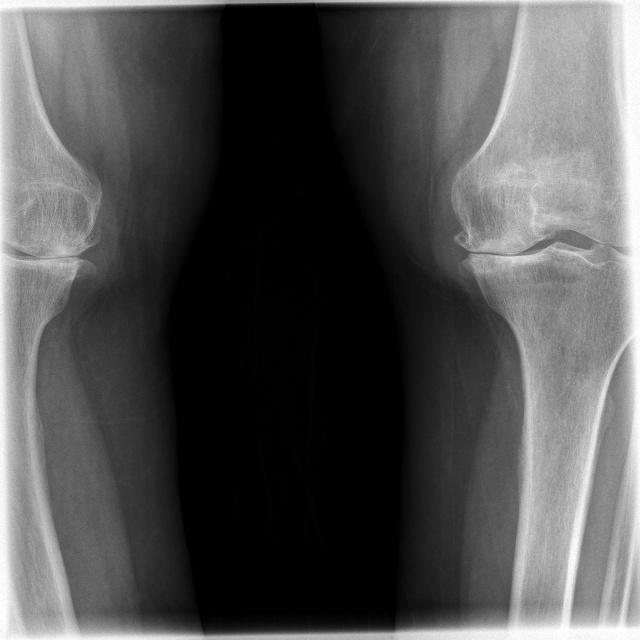Knee: (447, 147, 638, 332), (0, 160, 102, 317)
